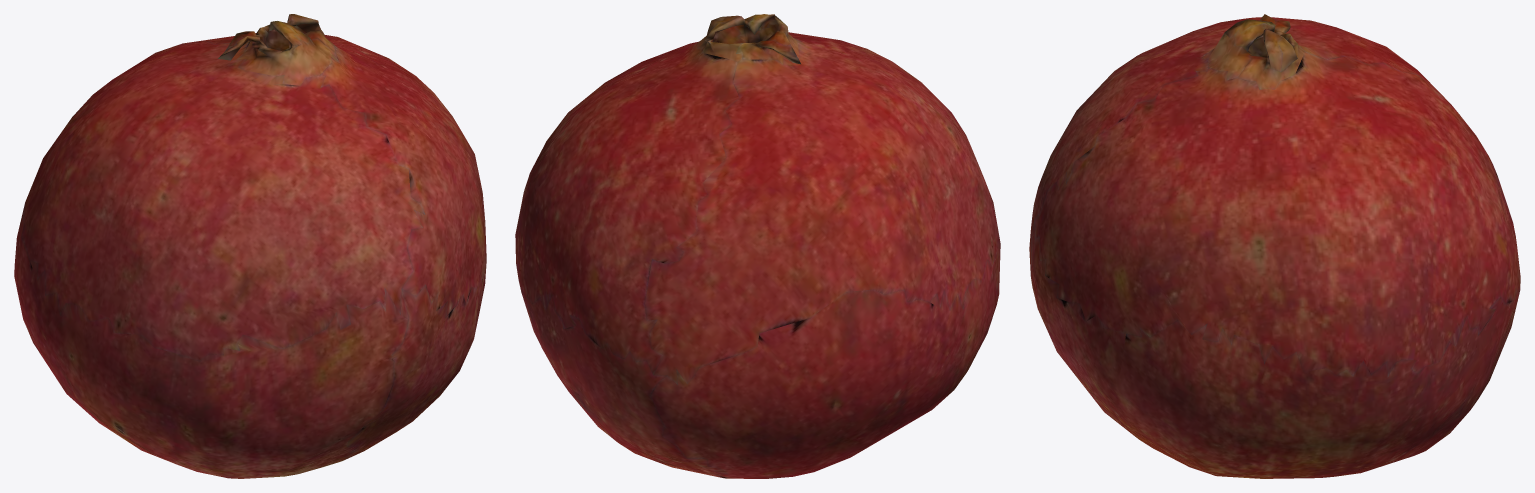
File: pomegranate.glb
3 views of the same model, side by side, from view 1: azimuth 30°, elevation 25°; view 2: azimuth 150°, elevation 25°; view 3: azimuth 270°, elevation 25° (orthographic). The views are drawn at different scales.
Parts seen in each view (by area): view 1: food_pomegranate_01; view 2: food_pomegranate_01; view 3: food_pomegranate_01.
Boxes of the visible parts, x1,y1,x2,y2 form: food_pomegranate_01: [14, 14, 486, 478]; food_pomegranate_01: [515, 14, 1000, 478]; food_pomegranate_01: [1029, 14, 1520, 478].
Size of the model in its own units: 0.1142 by 0.1147 by 0.1154.
Materials: 1 (1 with a texture image).
